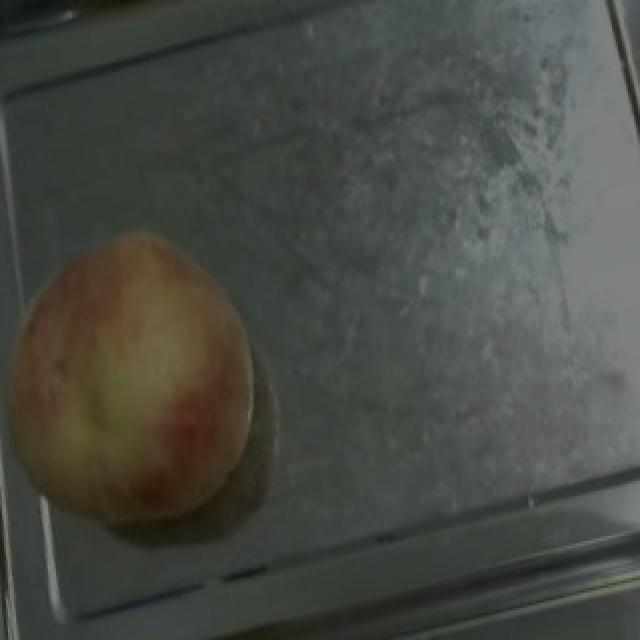Fruit: (0, 198, 296, 566)
